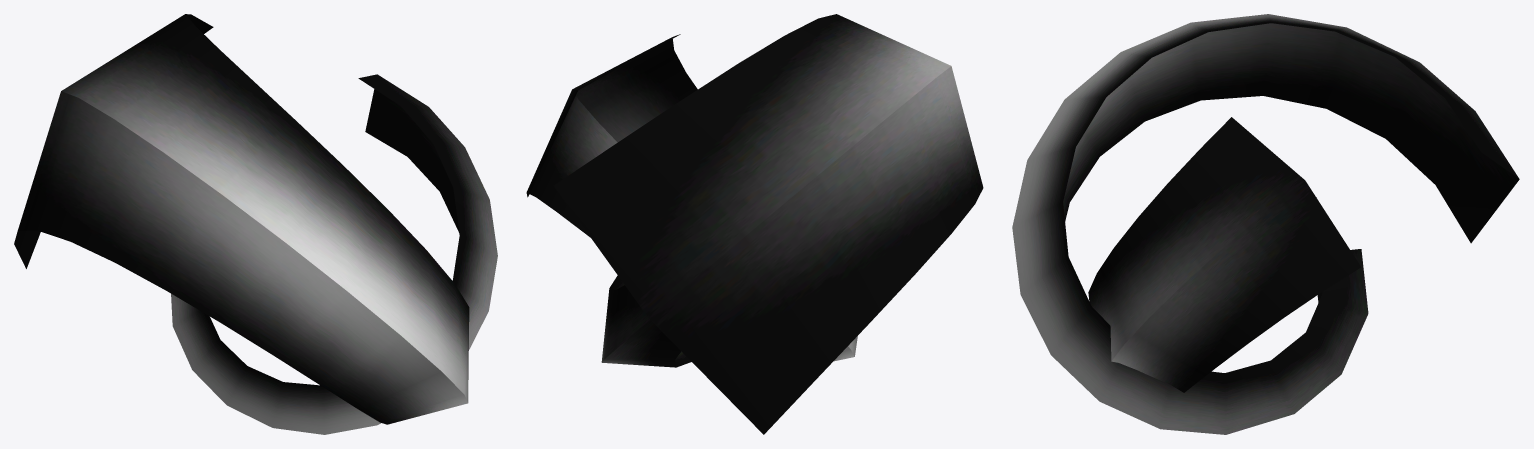
The model's file is vfx_kurp_0265.dae.
The picture shows the model from 3 angles, left to right: view 1: azimuth 30°, elevation 25°; view 2: azimuth 150°, elevation 25°; view 3: azimuth 270°, elevation 25°; orthographic projection. The views are drawn at different scales.
Visible parts, largest first — view 1: vfx_kurp_0265; view 2: vfx_kurp_0265; view 3: vfx_kurp_0265.
Part boxes in pixels (x1=…): vfx_kurp_0265: x1=14, y1=14, x2=497, y2=434; vfx_kurp_0265: x1=526, y1=14, x2=983, y2=434; vfx_kurp_0265: x1=1012, y1=14, x2=1519, y2=434.
Size of the model in its own units: 5.49 by 6.74 by 4.86.
1 material, 1 textured.
